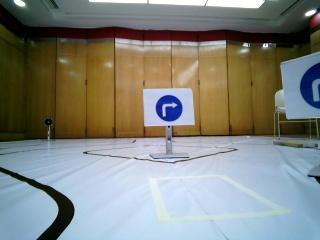right: (285, 63, 320, 119), (146, 87, 193, 127)
